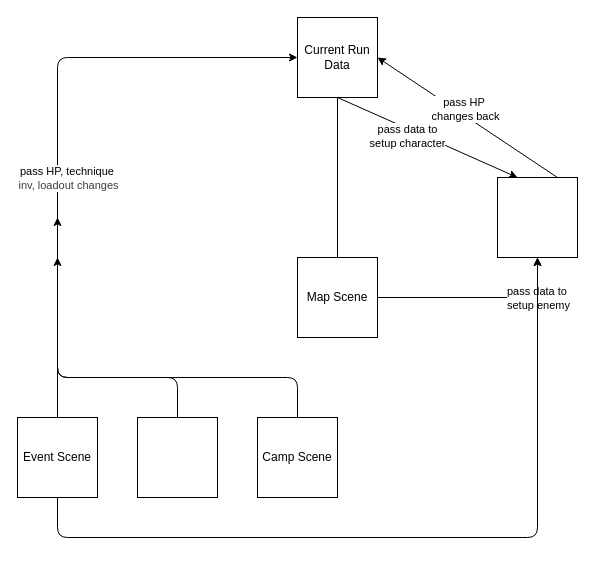
Some shapes in this 595 by 563 pixel diagram are drawn without their labels. Each missing label, with the box of its shape:
Battle Scene: (496, 176, 578, 258)
Dialogue Scene: (136, 416, 218, 498)
